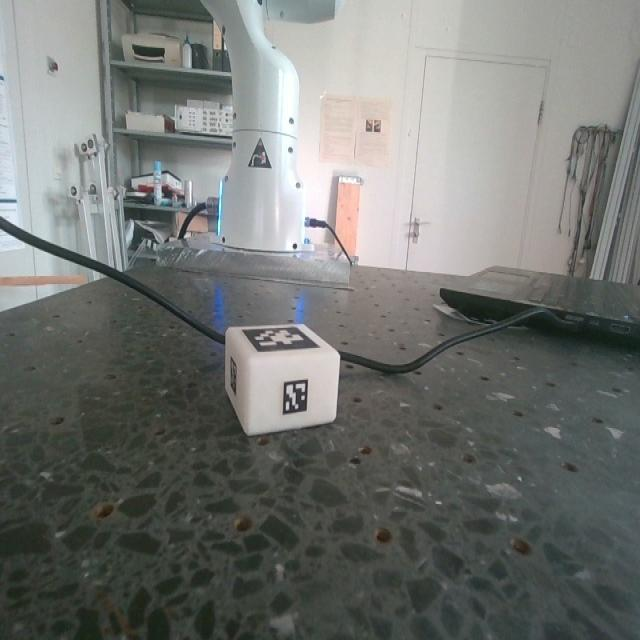Cube: (225, 320, 342, 432)
